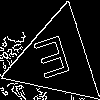E: (31, 34, 76, 89)
